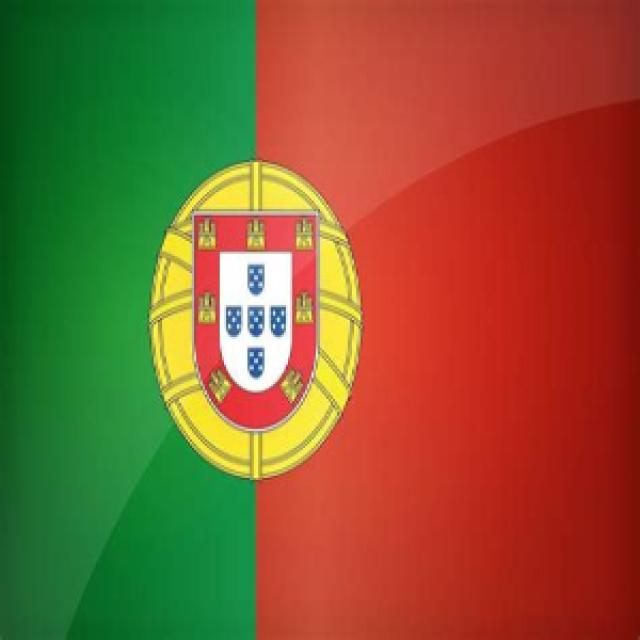portugal: (6, 13, 640, 640)
